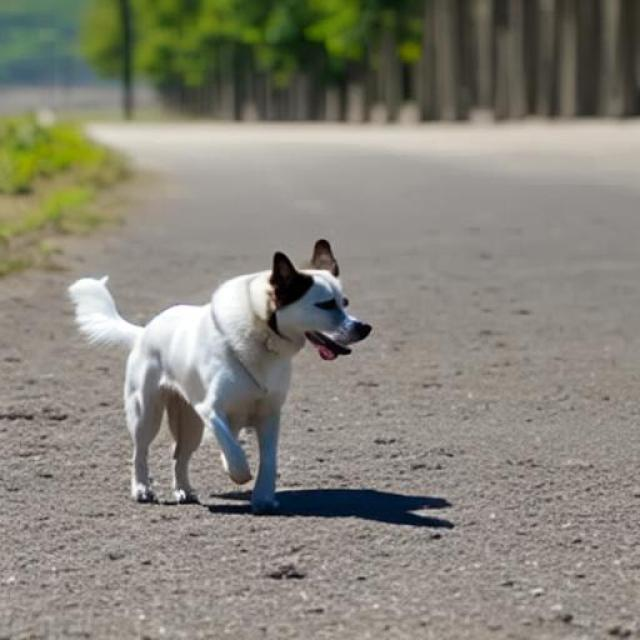Dog: (68, 238, 373, 508)
